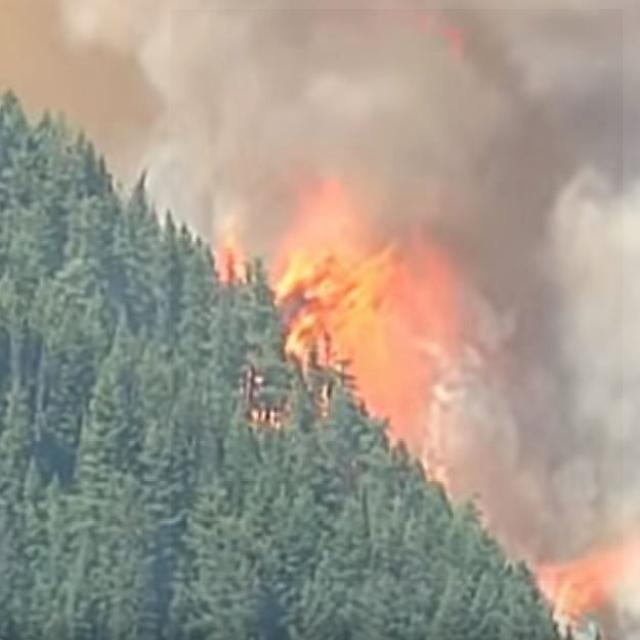Fire: (222, 197, 417, 461)
Smoke: (171, 9, 623, 581)
